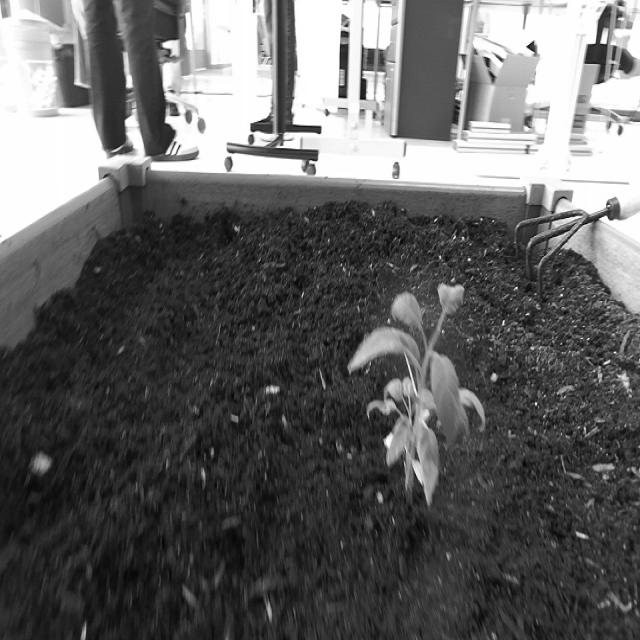Healthy: (338, 256, 494, 526)
